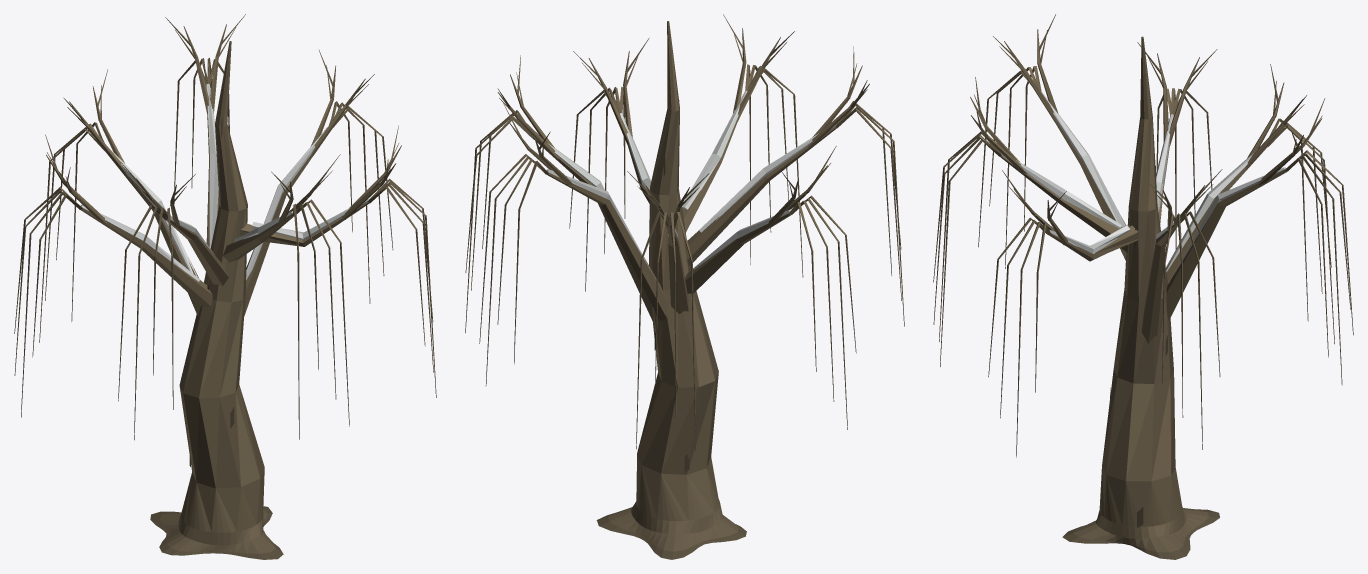
File: willow_winter.glb
3 renders of one model, left to right at view 1: azimuth 30°, elevation 25°; view 2: azimuth 150°, elevation 25°; view 3: azimuth 270°, elevation 25°, orthographic.
Visible parts, largest first — view 1: branches, snow; view 2: branches, snow; view 3: branches, snow.
Boxes of the visible parts, bbox=[...] form: branches: bbox=[14, 14, 436, 559]; snow: bbox=[80, 83, 368, 281]; branches: bbox=[465, 14, 904, 559]; snow: bbox=[533, 90, 835, 271]; branches: bbox=[933, 14, 1353, 559]; snow: bbox=[1001, 91, 1285, 274].
Bounding box in the file's own units: 3.38 × 4.33 × 3.32.
